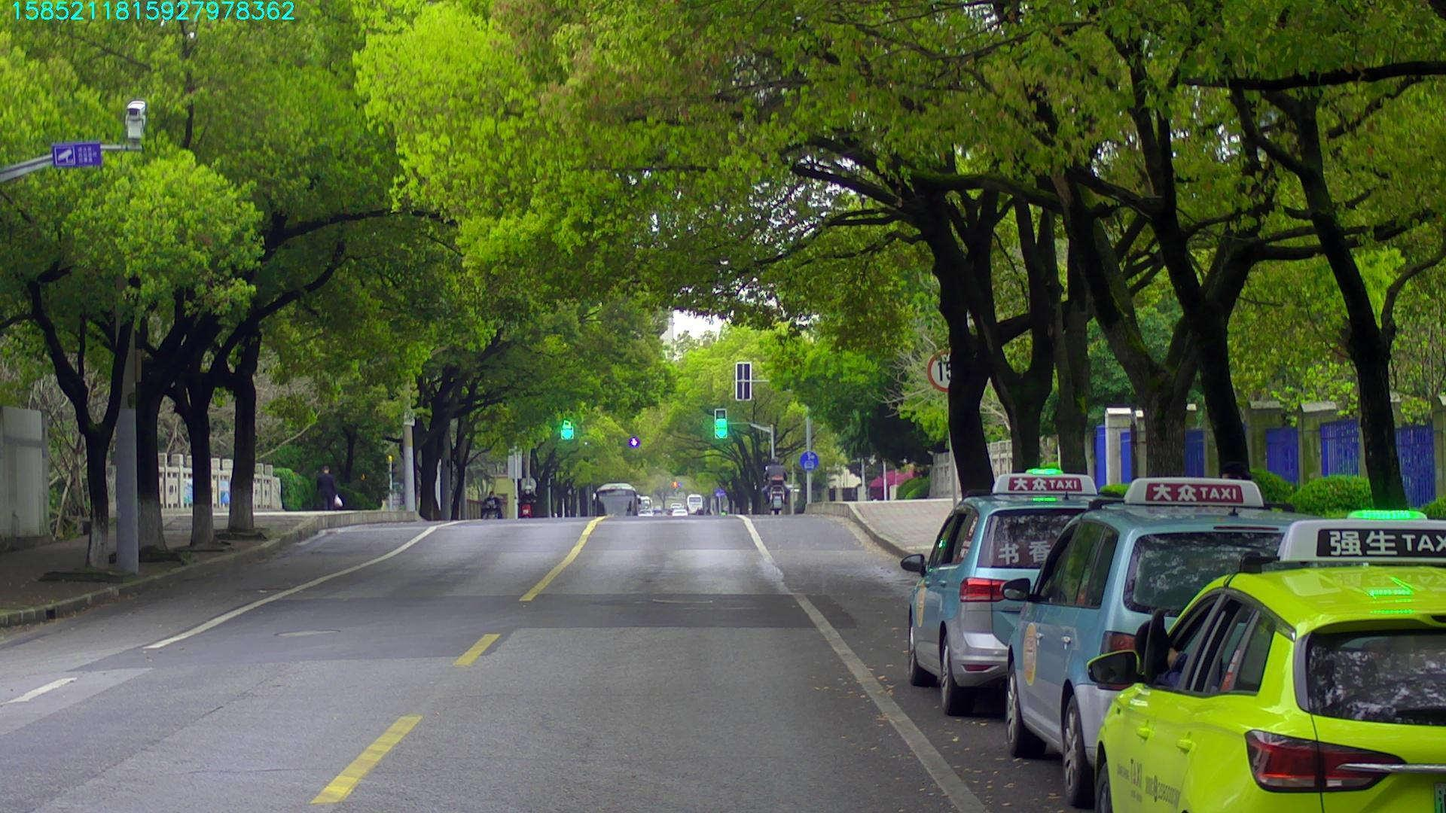green: (714, 409, 727, 439), (559, 417, 573, 440)
